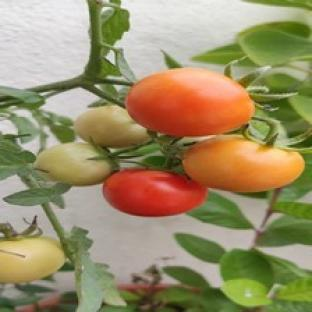Tomato: (126, 69, 254, 136), (183, 136, 305, 192), (104, 169, 207, 217), (34, 143, 112, 186), (74, 105, 149, 147), (0, 237, 66, 282)
